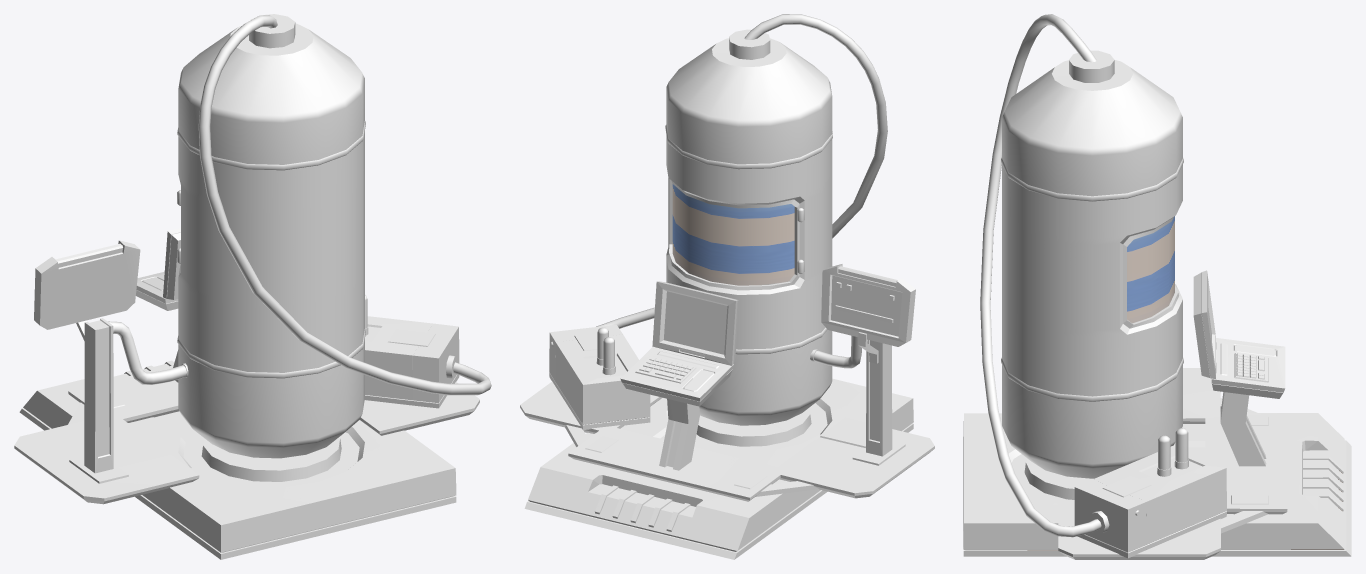
The model's file is SampleAnalysisMachineArena.glb.
The picture shows the model from 3 angles, left to right: view 1: azimuth 30°, elevation 25°; view 2: azimuth 150°, elevation 25°; view 3: azimuth 270°, elevation 25°; orthographic projection. The views are drawn at different scales.
Visible parts, largest first — view 1: SampleAnalysisMachineArenaHologram; view 2: SampleAnalysisMachineArenaHologram, Glass; view 3: SampleAnalysisMachineArenaHologram, Glass.
Boxes of the visible parts, bbox=[...] form: SampleAnalysisMachineArenaHologram: bbox=[14, 14, 491, 559]; SampleAnalysisMachineArenaHologram: bbox=[520, 14, 934, 559]; Glass: bbox=[672, 184, 794, 285]; SampleAnalysisMachineArenaHologram: bbox=[963, 14, 1351, 559]; Glass: bbox=[1127, 216, 1174, 323].
Size of the model in its own units: 2.42 by 2.68 by 2.03.
Materials: 3 (2 with a texture image).
